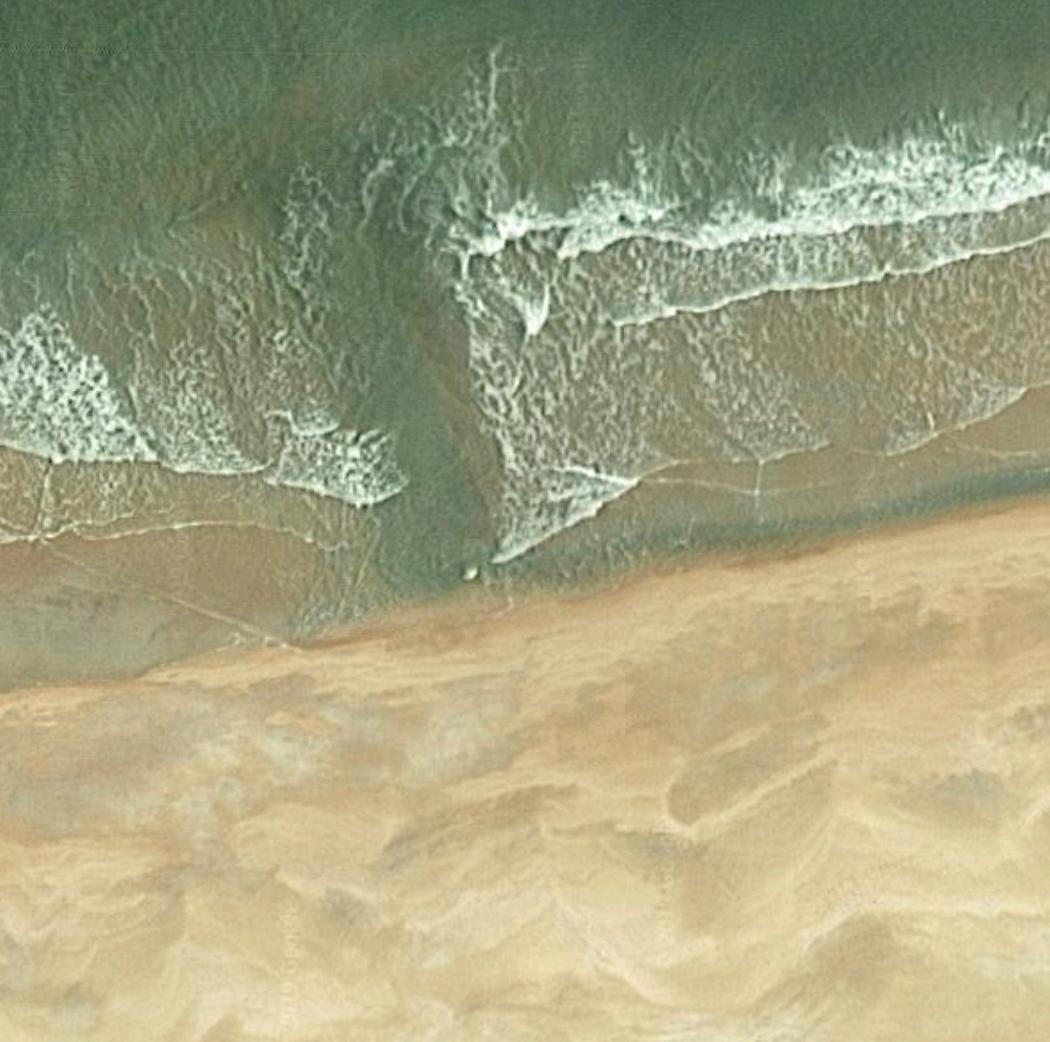rip_current: (225, 65, 534, 570)
